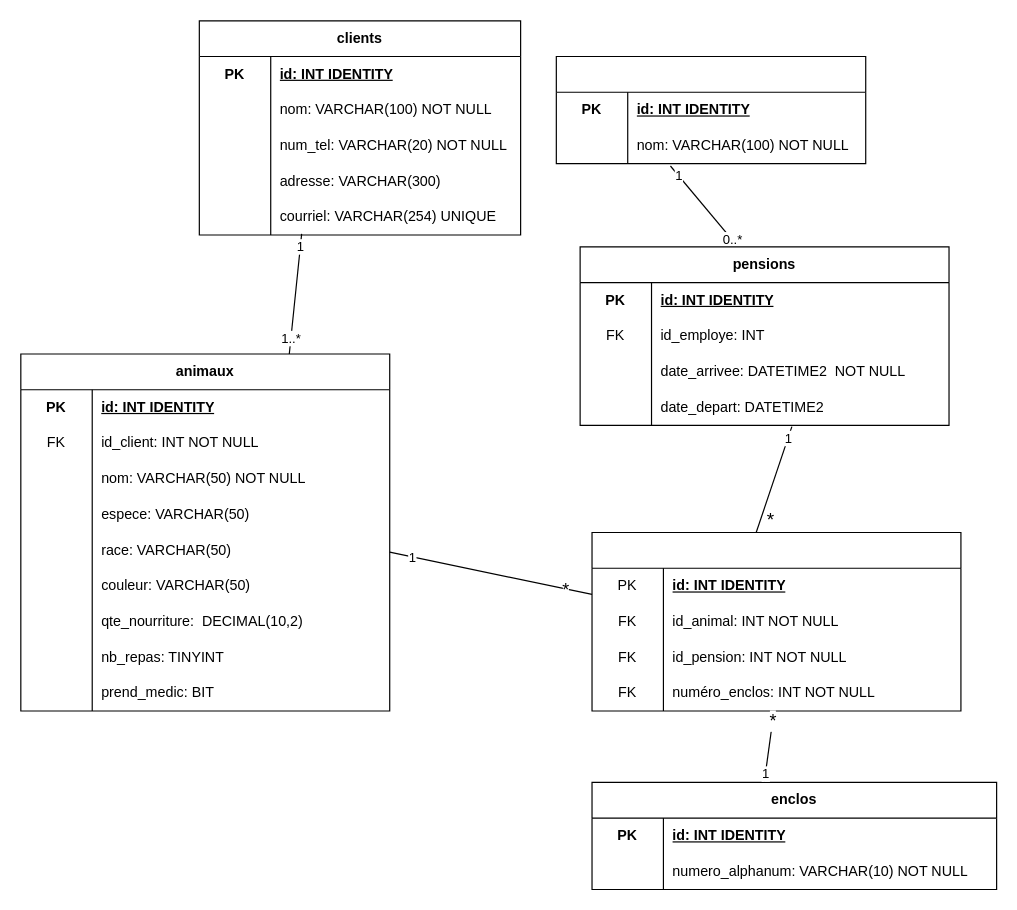
This 1017x910 diagram has some shape labels left out. The box of each missing label's shape, as (x1, y1, x2, y2) in pixels:
employes: (555, 55, 866, 164)
enclos_pensions_animaux: (591, 531, 961, 711)
